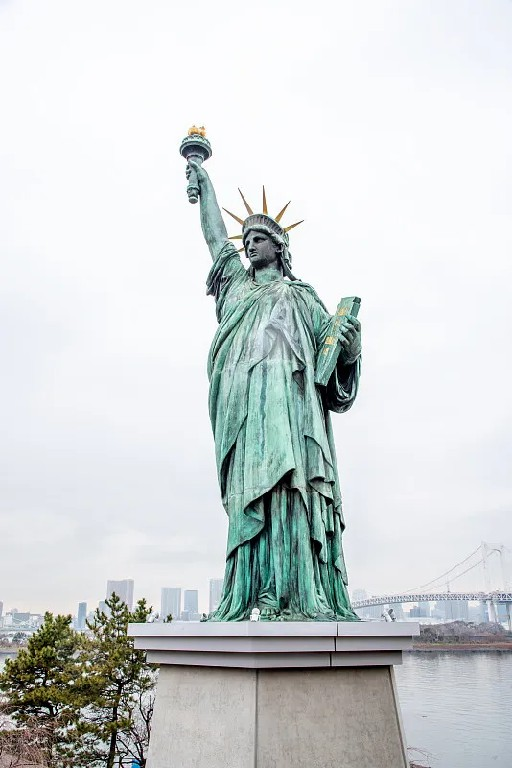SL: (127, 125, 417, 768)
